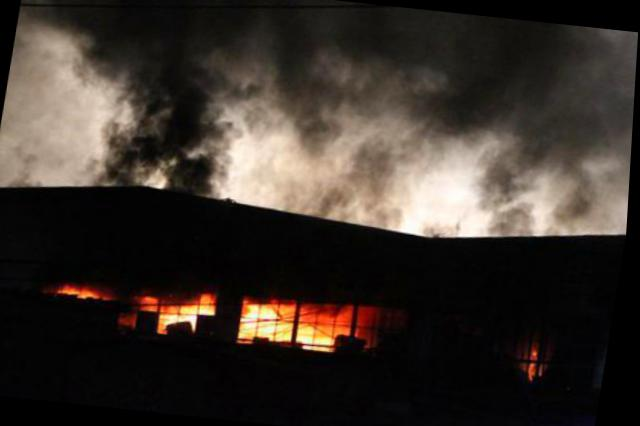fire: (296, 299, 357, 350), (237, 292, 298, 342), (159, 298, 201, 334), (354, 302, 383, 346), (60, 282, 114, 298), (529, 338, 543, 376), (199, 289, 218, 312), (143, 291, 161, 307)
